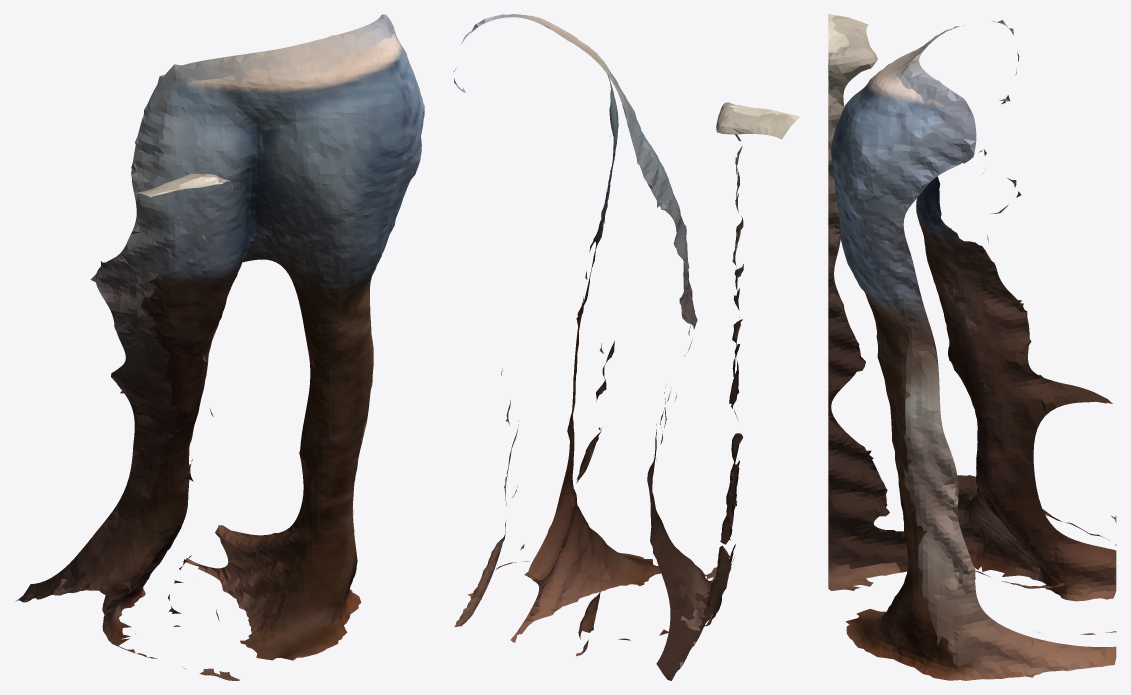
3 renders of one model, left to right at view 1: azimuth 30°, elevation 25°; view 2: azimuth 150°, elevation 25°; view 3: azimuth 270°, elevation 25°, orthographic. The views are drawn at different scales.
Size of the model in its own units: 0.5033 by 0.9186 by 0.3927.
1 material, 1 textured.
